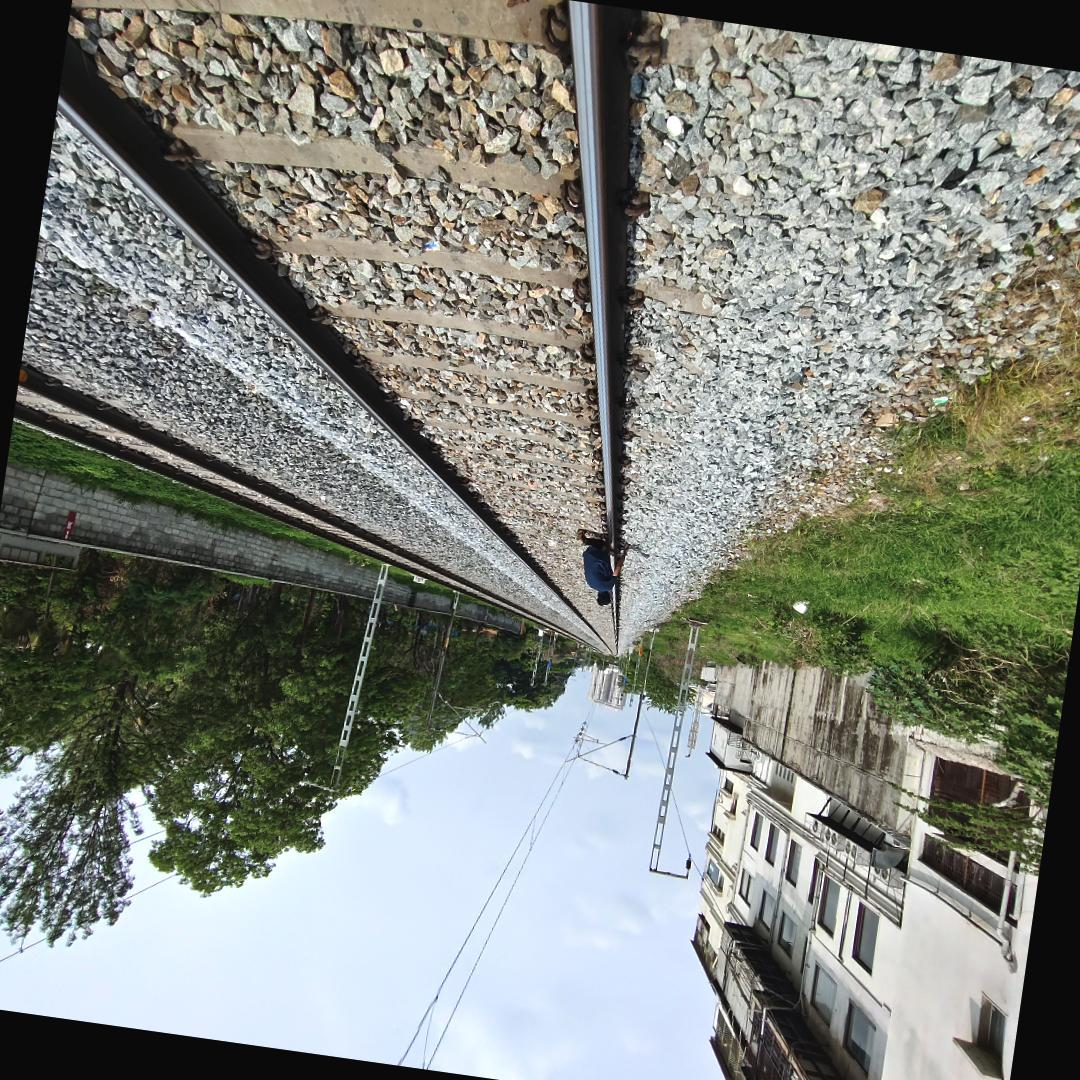track: (37, 0, 764, 663), (562, 515, 656, 622)
